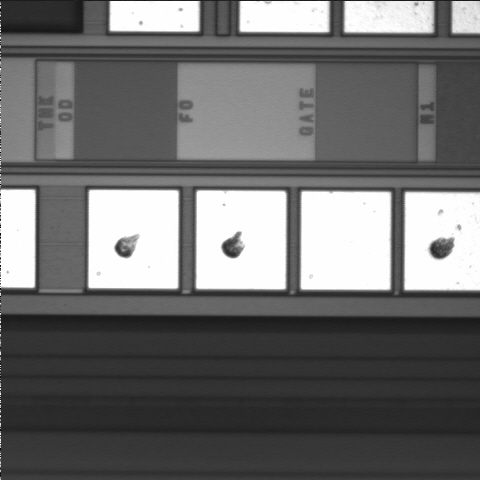pad: (88, 190, 179, 289), (301, 191, 391, 290), (196, 191, 286, 289)
